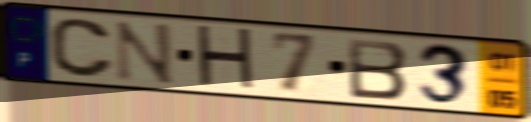3: (415, 41, 475, 109)
7: (269, 30, 319, 96)
B: (345, 36, 411, 102)
C: (47, 16, 118, 80)
H: (193, 22, 259, 95)
N: (113, 19, 177, 87)
